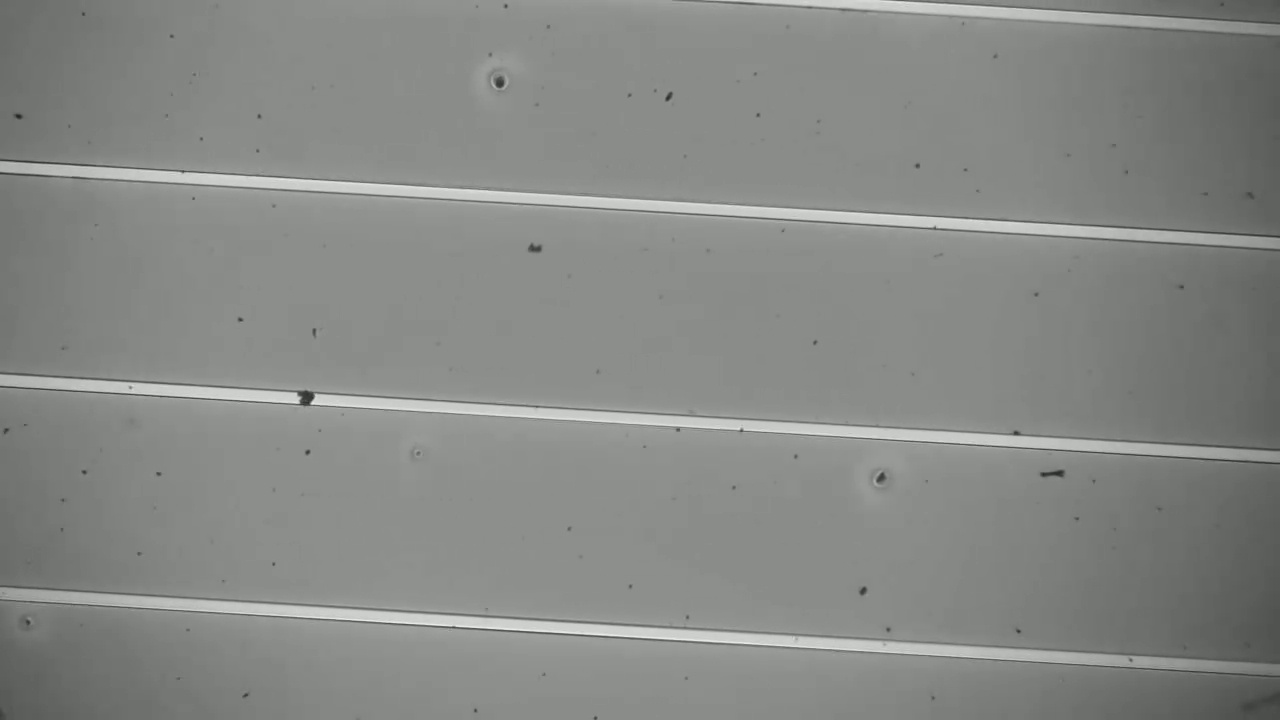stains_enbedded: (290, 380, 316, 417)
